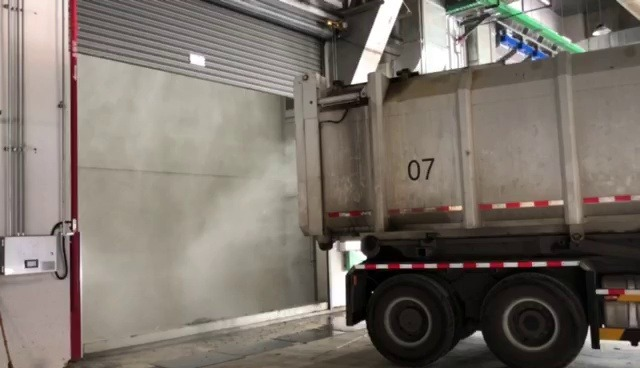dust: (82, 138, 295, 318)
truck: (280, 33, 640, 368)
